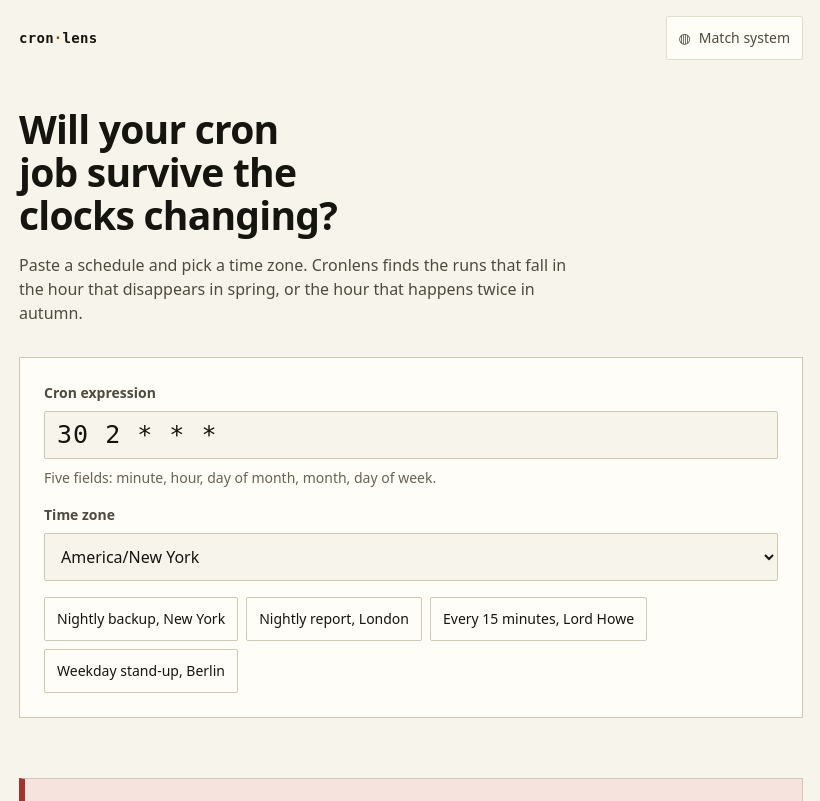
Test: Cronlens › applies an example chip
Click the button "Every 15 minutes, Lord Howe".
click(539, 619)  # box [430,597,647,641]
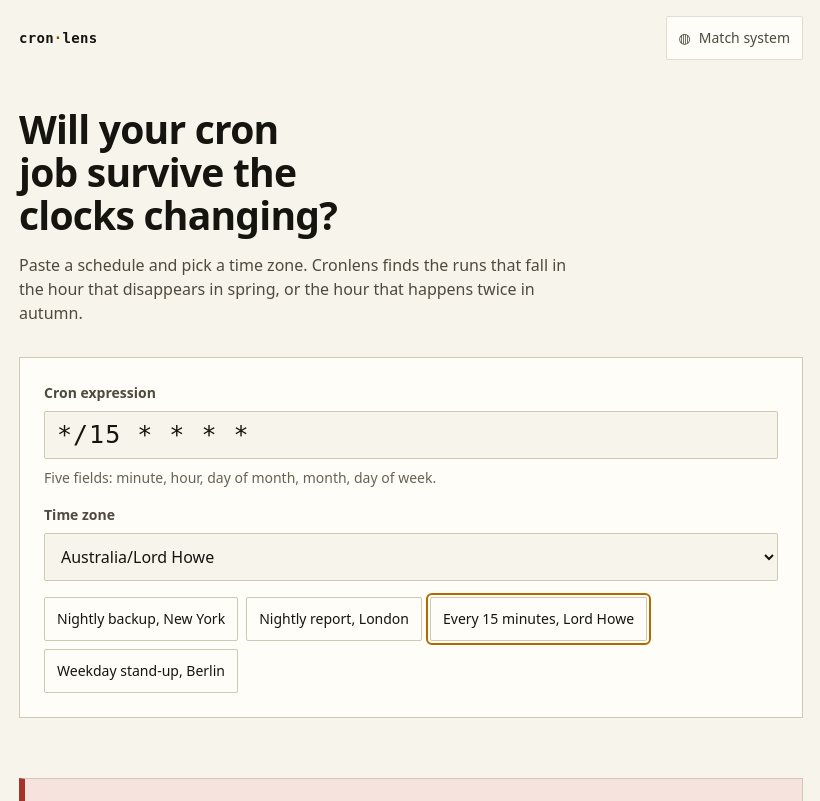
expect the field labelled "Cron expression" holds "*/15 * * * *": met, box [44,411,778,459]
expect the dropdown labelled "Time zone" shows "Australia/Lord Howe": met, box [44,533,778,581]
